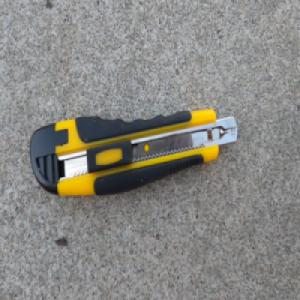Cutter: (29, 107, 238, 198)
